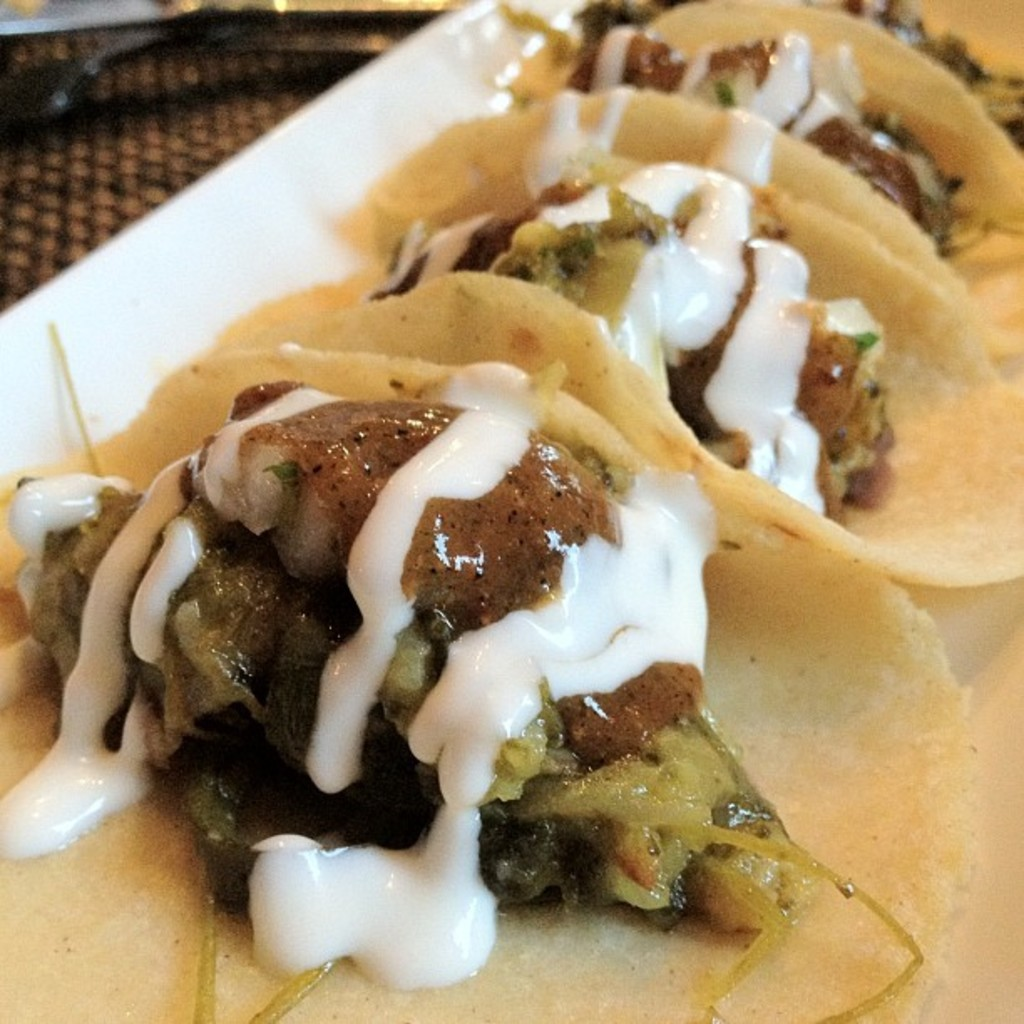taco: (79, 316, 842, 942), (288, 142, 1009, 582), (479, 0, 1014, 316)
